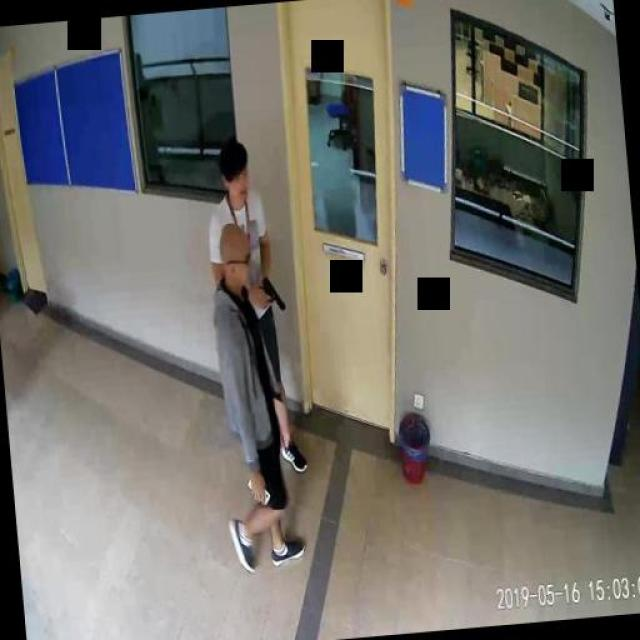gun: (260, 271, 285, 311)
